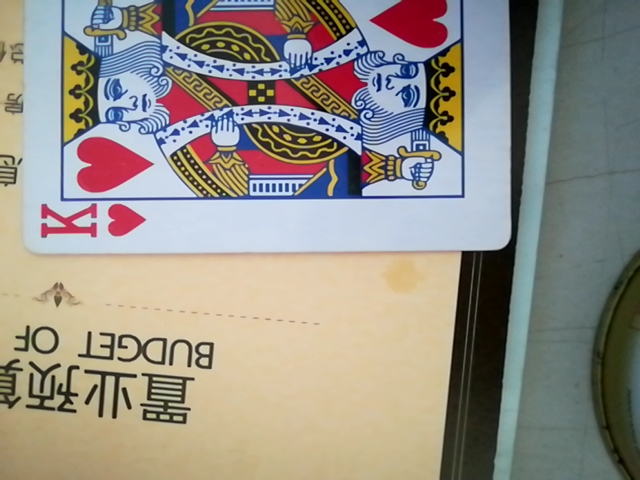hx k: (12, 0, 513, 256)
